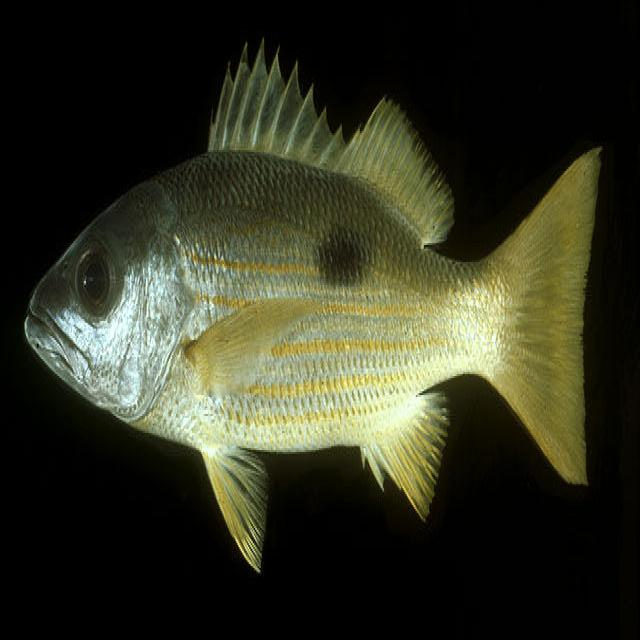ikan: (23, 34, 604, 576)
